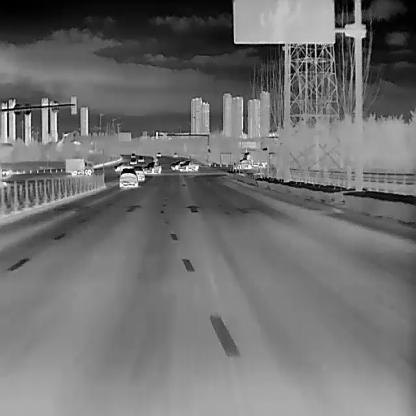car: (65, 157, 94, 174), (242, 149, 268, 167), (118, 167, 137, 188), (177, 159, 198, 172), (145, 159, 161, 174), (113, 161, 131, 171), (169, 158, 184, 170), (233, 158, 251, 168), (132, 165, 143, 179), (129, 156, 136, 164), (137, 153, 144, 161), (172, 151, 177, 157), (156, 150, 161, 156), (130, 152, 135, 158)
